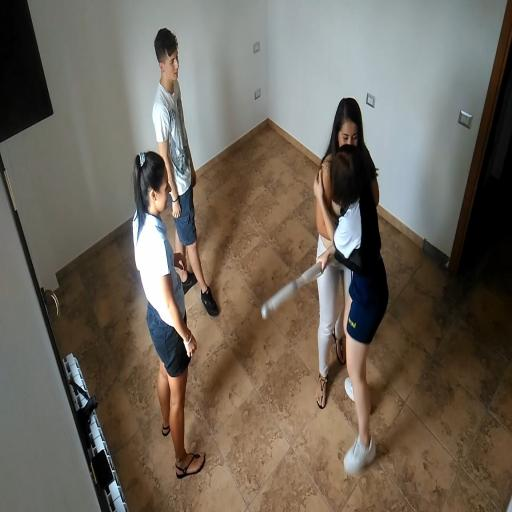violencia: (255, 89, 393, 491)
